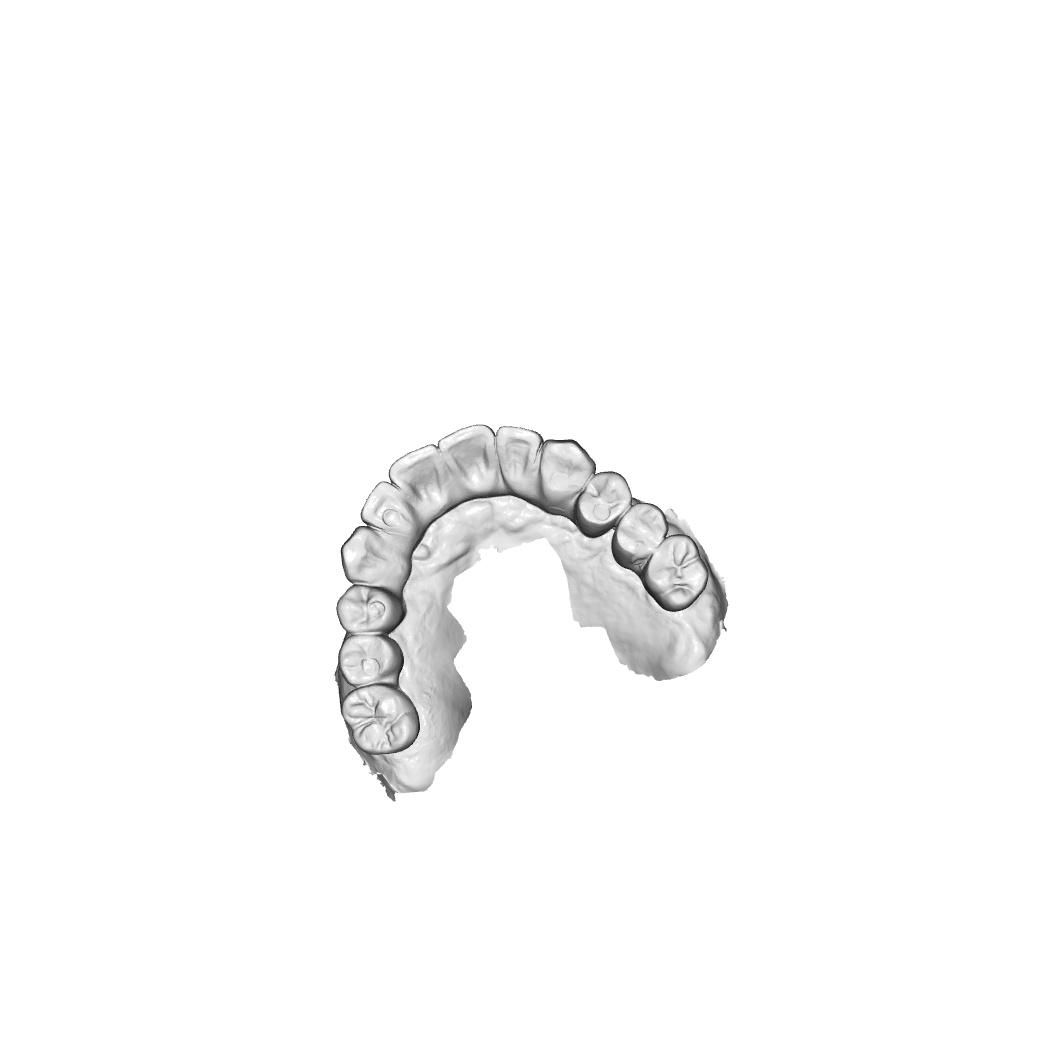canine: (339, 525, 413, 592), (539, 438, 597, 515)
incisor: (438, 423, 496, 499), (497, 424, 544, 499), (388, 443, 444, 504), (360, 480, 414, 536)
molar: (340, 683, 423, 755), (641, 533, 709, 614)
premolar: (610, 502, 670, 570), (574, 470, 632, 538), (337, 634, 405, 686), (336, 584, 406, 634)
